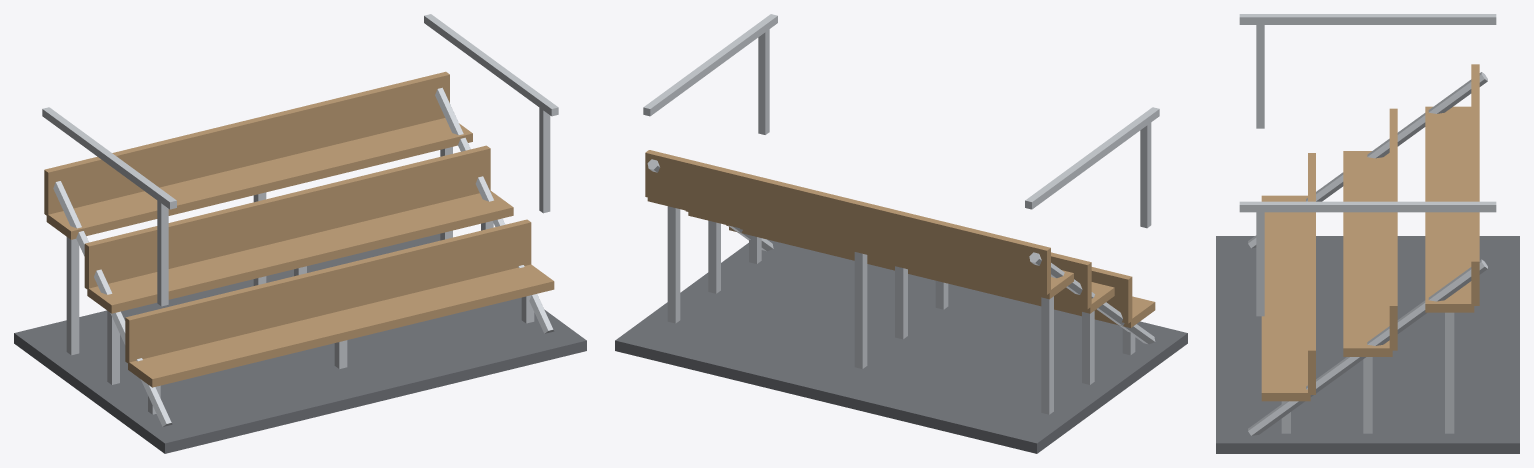
File: tennis-club-and-courts-spectator-bleacher-42aff381__33633.glb
The picture shows the model from 3 angles, left to right: view 1: azimuth 30°, elevation 25°; view 2: azimuth 150°, elevation 25°; view 3: azimuth 270°, elevation 25°; orthographic projection.
Parts seen in each view (by area): view 1: spectator-bleacher; view 2: spectator-bleacher; view 3: spectator-bleacher.
Part boxes in pixels (x1,y1,x2,y2): spectator-bleacher: (14,14,586,453); spectator-bleacher: (615,14,1187,453); spectator-bleacher: (1216,14,1519,453).
Size of the model in its own units: 4.2 by 2.27 by 2.6.
